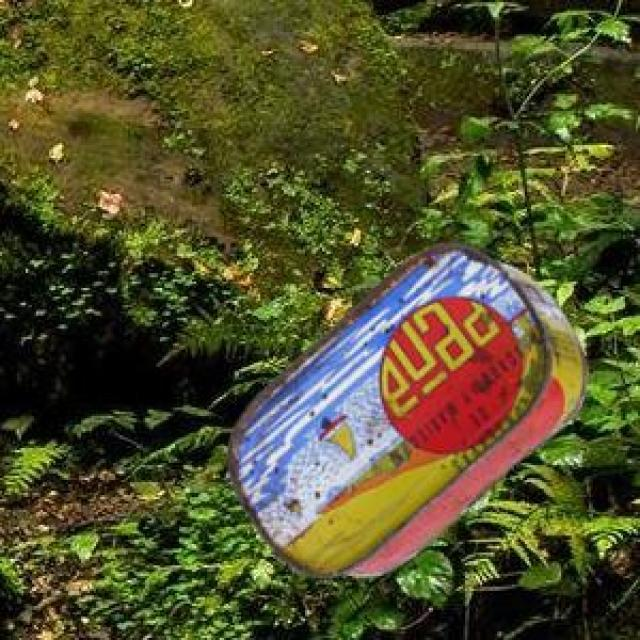Can: (225, 242, 583, 573)
